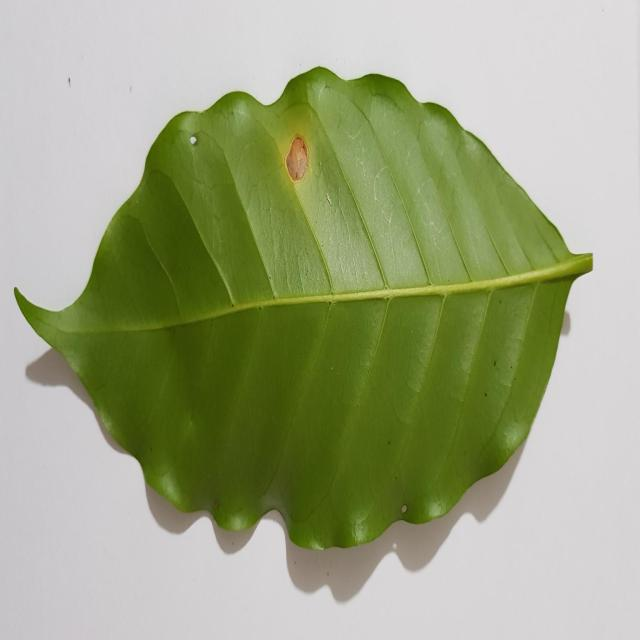Enfermedad-Mancha-de-hierro: (12, 67, 595, 552)
